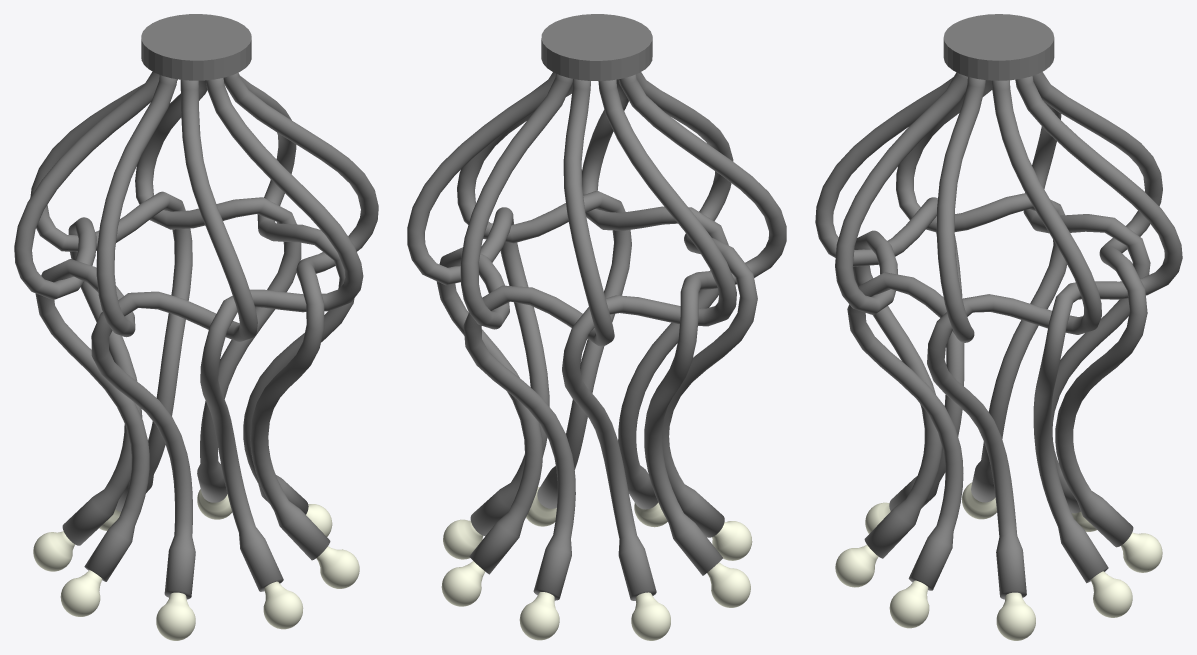
The model's file is chandelier.fbx.
3 views of the same model, side by side, from view 1: azimuth 30°, elevation 25°; view 2: azimuth 150°, elevation 25°; view 3: azimuth 270°, elevation 25° (orthographic).
Visible parts, largest first — view 1: Sphere.003; view 2: Sphere.003; view 3: Sphere.003.
Boxes of the visible parts, x1,y1,x2,y2 form: Sphere.003: [14, 14, 378, 640]; Sphere.003: [407, 14, 786, 640]; Sphere.003: [815, 14, 1182, 640].
Bounding box in the file's own units: 109 × 176 × 109.
Materials: 1 (1 with a texture image).
